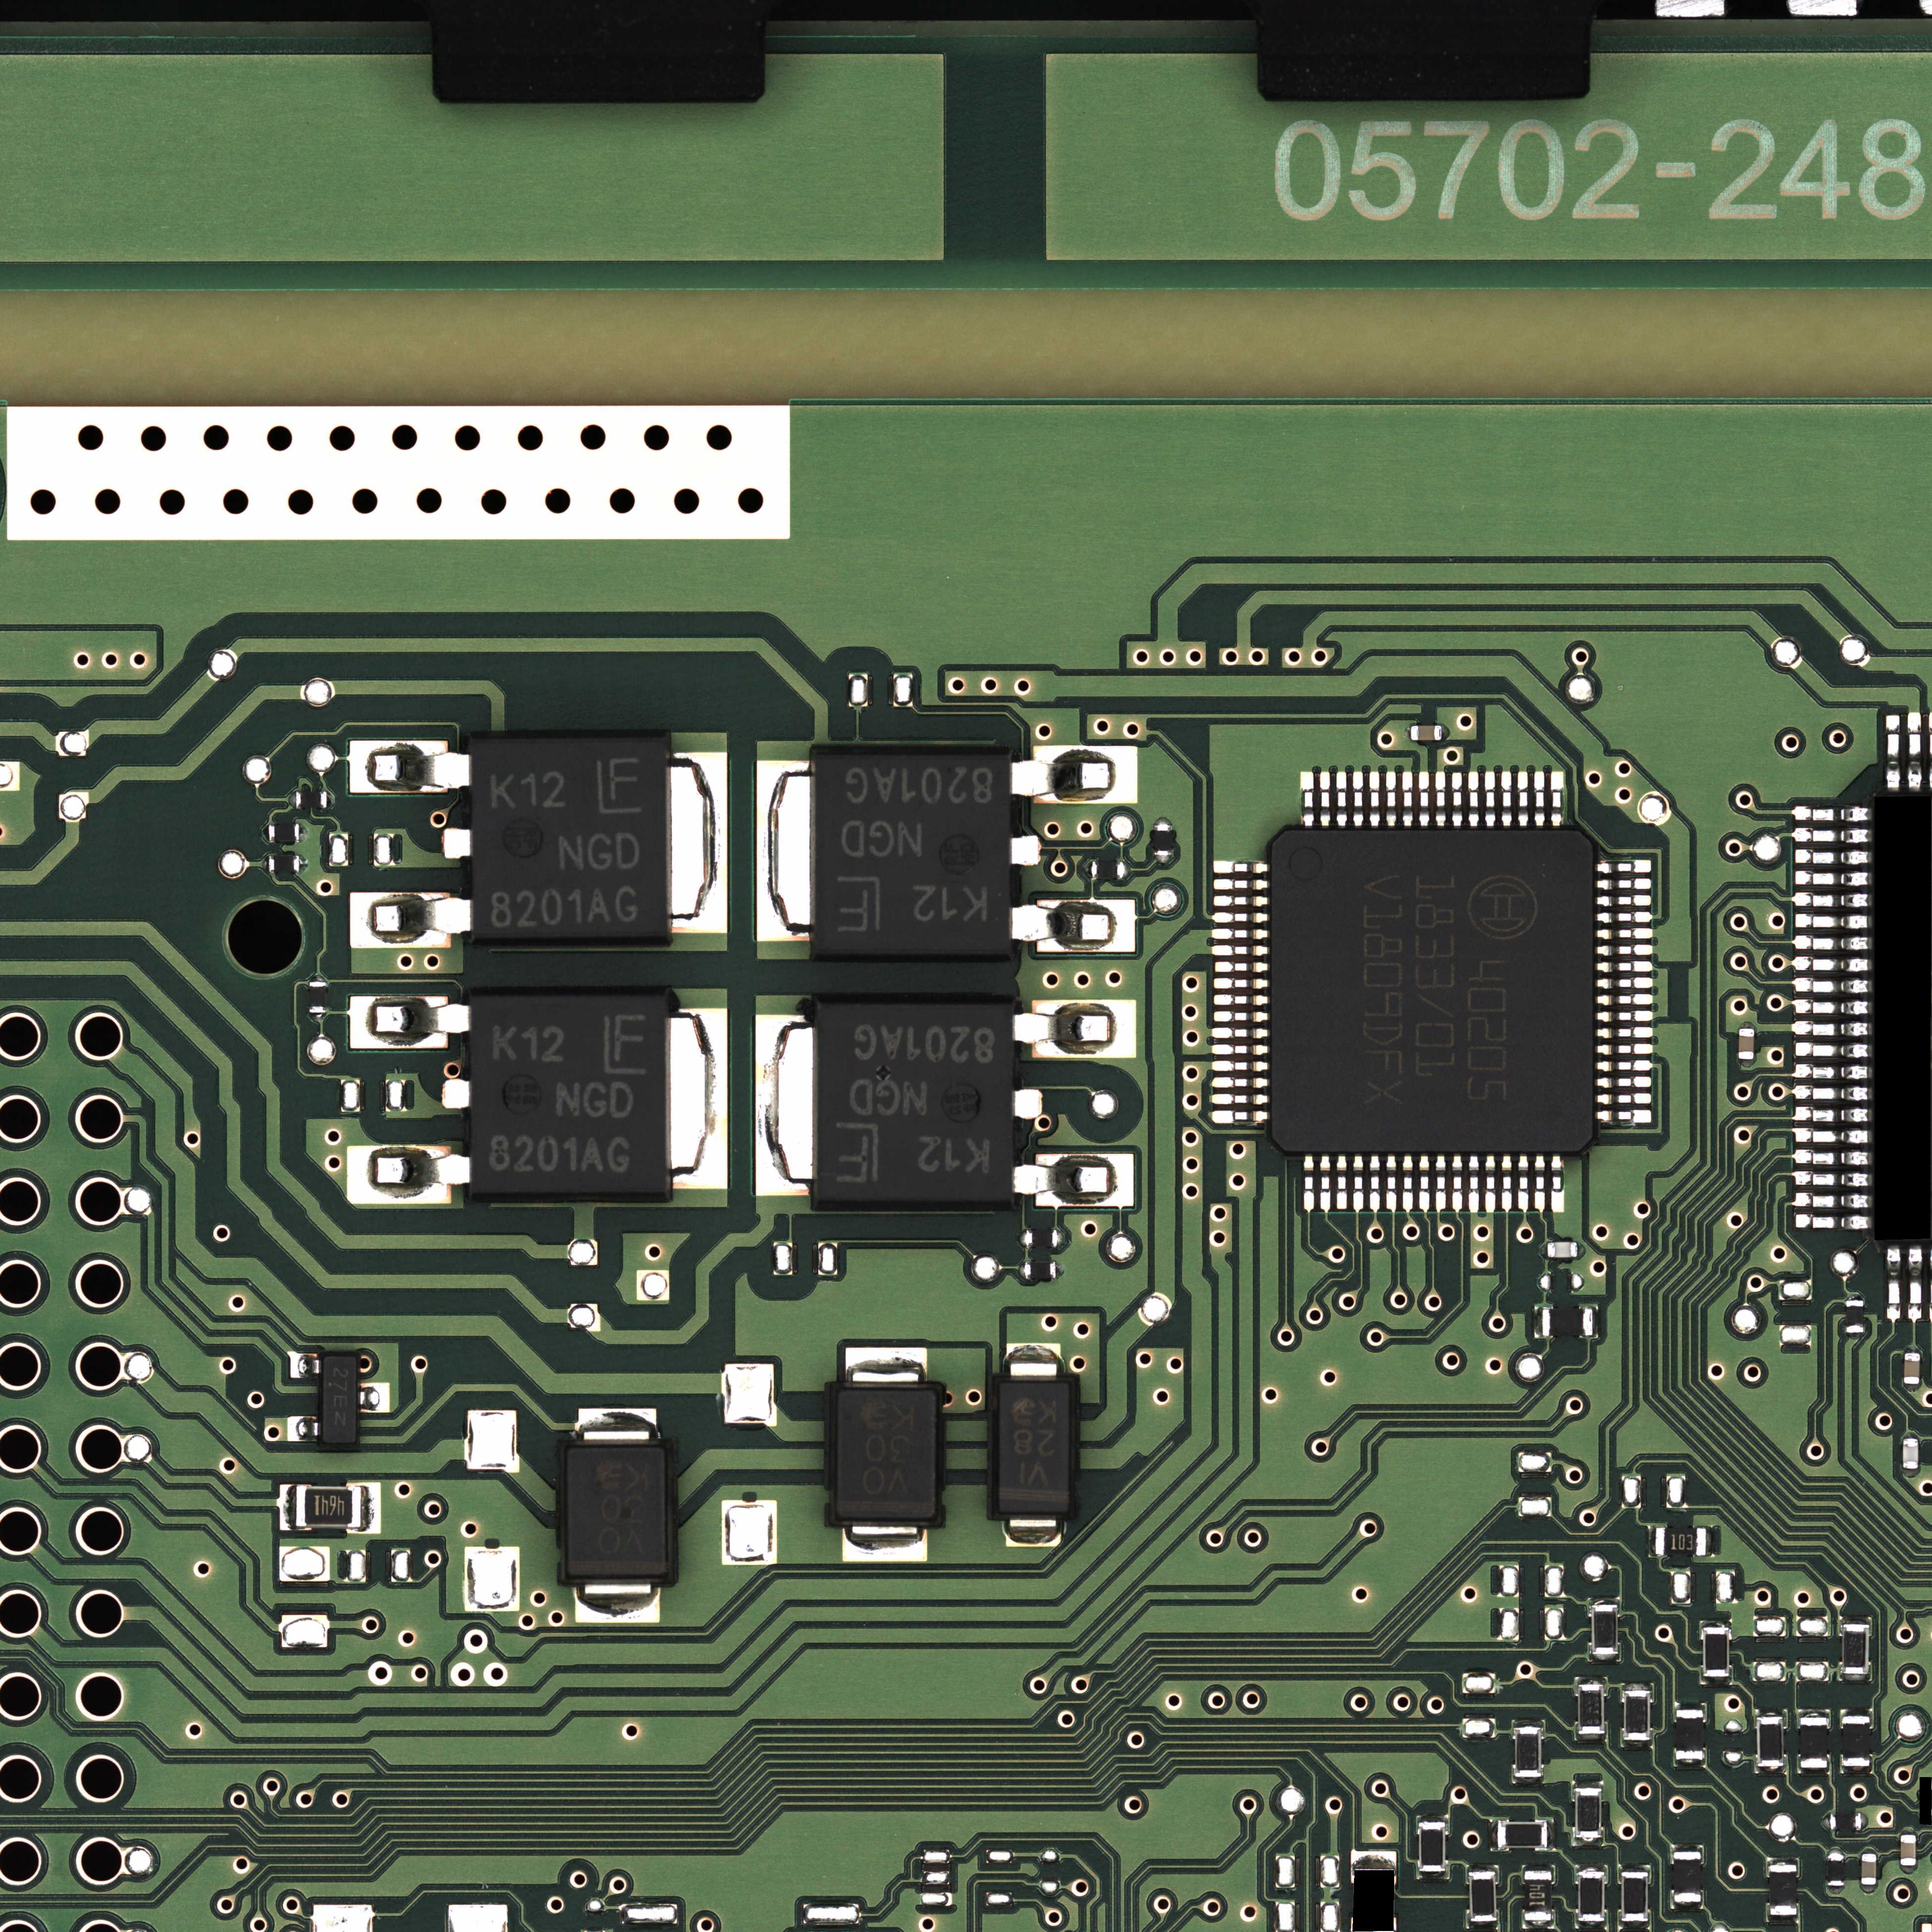Package: (1271, 828, 1595, 1155), (815, 752, 1011, 956), (472, 738, 667, 940), (471, 994, 666, 1196), (817, 1007, 1011, 1204), (836, 1390, 936, 1520), (567, 1448, 668, 1576), (999, 1382, 1069, 1514), (321, 1353, 358, 1444), (295, 1486, 362, 1527), (1800, 1717, 1828, 1768), (1542, 1308, 1593, 1336), (1676, 1710, 1704, 1759), (1673, 1852, 1701, 1902), (1655, 1528, 1706, 1555), (1770, 1865, 1797, 1915), (1843, 1716, 1870, 1766), (1525, 1871, 1551, 1920), (1469, 1872, 1496, 1922), (1419, 1822, 1445, 1872), (1703, 1627, 1730, 1677), (1842, 1625, 1869, 1674), (1579, 1871, 1604, 1922), (1497, 1822, 1547, 1848), (1622, 1872, 1647, 1922), (1576, 1788, 1601, 1837), (1592, 1605, 1617, 1654), (1625, 1690, 1649, 1740), (1516, 1727, 1541, 1777), (1578, 1685, 1603, 1734), (1758, 1717, 1783, 1766), (1846, 1301, 1865, 1333), (1026, 1230, 1058, 1248), (1091, 862, 1122, 879), (1025, 1261, 1056, 1279), (269, 824, 299, 842), (296, 791, 327, 808), (1155, 825, 1172, 856), (269, 855, 299, 872), (1830, 1814, 1861, 1830), (1828, 1855, 1844, 1886), (1904, 1353, 1920, 1384), (1739, 1029, 1754, 1059), (1901, 1835, 1916, 1866), (1903, 1439, 1919, 1468), (1547, 1242, 1577, 1257), (1862, 1854, 1876, 1884), (1411, 725, 1442, 740)
Solder: (756, 1014, 817, 1196), (667, 753, 727, 933), (667, 1008, 727, 1189), (757, 759, 814, 942), (1011, 744, 1138, 804), (1013, 999, 1136, 1059), (346, 1145, 469, 1205), (1012, 899, 1137, 954), (350, 892, 470, 948), (1014, 1154, 1133, 1208), (350, 740, 469, 793), (350, 997, 468, 1049), (576, 1577, 660, 1623), (842, 1520, 927, 1561), (846, 1347, 926, 1390), (576, 1408, 657, 1448), (1007, 1343, 1061, 1382), (1006, 1515, 1061, 1547), (1796, 1213, 1871, 1230), (1796, 1171, 1871, 1187), (1795, 1063, 1871, 1080), (1795, 1106, 1871, 1122), (1795, 956, 1870, 972), (1795, 998, 1870, 1014), (1795, 1042, 1871, 1058), (1795, 827, 1870, 843), (1795, 870, 1871, 887), (1795, 935, 1871, 951), (1795, 892, 1871, 909), (1796, 1193, 1871, 1208), (1796, 1150, 1871, 1166), (1795, 1085, 1871, 1101), (1795, 1127, 1871, 1143), (1795, 977, 1870, 993), (1795, 1019, 1870, 1035), (1795, 848, 1871, 864), (1795, 806, 1871, 821), (1795, 914, 1871, 929), (1907, 712, 1922, 789), (1885, 715, 1900, 789), (1886, 1245, 1901, 1320), (362, 1484, 381, 1533), (1909, 1246, 1922, 1320), (1011, 835, 1041, 866), (359, 1383, 390, 1412), (1012, 1089, 1042, 1119), (1350, 1850, 1397, 1869), (444, 828, 471, 859), (442, 1079, 470, 1109), (1551, 1155, 1565, 1212), (1211, 1110, 1269, 1124), (288, 1416, 319, 1441), (1595, 860, 1651, 874), (279, 1485, 295, 1531), (1550, 771, 1564, 827), (1301, 771, 1314, 828), (290, 1354, 321, 1378), (1212, 861, 1269, 873), (1596, 1110, 1652, 1123), (1211, 928, 1269, 940), (1211, 1027, 1269, 1039), (1596, 994, 1654, 1006), (1211, 1077, 1269, 1089), (1213, 977, 1269, 990), (1596, 977, 1653, 989), (1596, 928, 1653, 940), (1596, 1027, 1654, 1039), (1211, 1044, 1269, 1056), (1596, 912, 1653, 923), (1211, 912, 1268, 923), (1212, 945, 1269, 957), (1595, 878, 1651, 890), (1213, 994, 1269, 1006), (1596, 1076, 1652, 1088), (1213, 1011, 1269, 1022), (1596, 1011, 1654, 1022), (1211, 1094, 1269, 1105), (1213, 895, 1268, 907), (1211, 1061, 1269, 1072), (1596, 961, 1653, 972), (1596, 1044, 1654, 1055), (1596, 1060, 1653, 1071), (1596, 945, 1653, 956), (1319, 771, 1331, 828), (1214, 961, 1269, 973), (1468, 771, 1479, 828), (1369, 771, 1380, 828), (1517, 771, 1529, 828), (1418, 771, 1430, 828), (1352, 771, 1364, 828), (1595, 895, 1651, 907), (1451, 772, 1463, 828), (1452, 1155, 1463, 1213), (1596, 1093, 1652, 1105), (1213, 879, 1268, 890), (1485, 1155, 1496, 1213), (1468, 1155, 1479, 1213), (1419, 1155, 1430, 1212), (1518, 1155, 1529, 1212), (1501, 771, 1512, 828), (1402, 1155, 1413, 1212), (1369, 1155, 1380, 1212), (1386, 771, 1397, 828), (1534, 771, 1545, 827), (1402, 771, 1413, 828), (1336, 771, 1347, 828), (1485, 771, 1496, 828), (1435, 772, 1446, 828), (1535, 1155, 1545, 1213), (1436, 1155, 1446, 1212), (1501, 1155, 1512, 1212), (1386, 1155, 1397, 1212), (1320, 1155, 1331, 1212), (1353, 1155, 1364, 1211), (1304, 1156, 1314, 1211), (1337, 1156, 1347, 1210), (1621, 1740, 1654, 1748), (1706, 1527, 1716, 1556), (1534, 1306, 1542, 1338), (1700, 1677, 1732, 1685), (1767, 1915, 1798, 1923), (1799, 1709, 1830, 1717), (1618, 1922, 1650, 1930), (1523, 1921, 1553, 1929), (1840, 1616, 1870, 1624), (1573, 1837, 1603, 1846), (1839, 1674, 1871, 1682), (1513, 1720, 1544, 1728), (1756, 1708, 1786, 1717), (1841, 1708, 1872, 1716), (1490, 1820, 1497, 1850), (1622, 1682, 1652, 1690), (1647, 1526, 1655, 1557), (1417, 1872, 1448, 1880), (1590, 1654, 1619, 1662), (1618, 1864, 1650, 1872), (1767, 1857, 1799, 1864), (1841, 1767, 1872, 1774), (1576, 1922, 1607, 1929), (1672, 1844, 1702, 1852), (1799, 1768, 1830, 1776), (1589, 1597, 1619, 1605), (1576, 1677, 1606, 1685), (1576, 1734, 1607, 1741), (1675, 1759, 1705, 1767), (1756, 1766, 1787, 1774), (1673, 1902, 1702, 1909), (1523, 1864, 1554, 1871), (1676, 1702, 1704, 1710), (1572, 1781, 1603, 1787), (1593, 1306, 1600, 1337), (1467, 1865, 1498, 1872), (1417, 1815, 1448, 1822), (1548, 1820, 1555, 1850), (1700, 1621, 1732, 1627), (1467, 1922, 1498, 1928), (1513, 1777, 1543, 1784), (1576, 1865, 1607, 1871), (300, 824, 308, 842), (1846, 1293, 1865, 1301), (1155, 856, 1174, 863), (1058, 1230, 1065, 1248), (1154, 819, 1172, 825), (1861, 1884, 1877, 1892), (1739, 1059, 1755, 1066), (1739, 1021, 1755, 1028), (327, 791, 334, 809), (1057, 1261, 1063, 1279), (1442, 725, 1449, 740), (300, 856, 307, 872), (262, 825, 269, 842), (1904, 1384, 1921, 1391), (1827, 1886, 1844, 1893), (1828, 1847, 1844, 1855), (1900, 1866, 1917, 1873), (1903, 1469, 1920, 1476), (1862, 1813, 1869, 1830), (1846, 1333, 1865, 1339), (1577, 1242, 1584, 1257), (1905, 1347, 1920, 1353), (1824, 1814, 1830, 1831), (1019, 1262, 1025, 1279), (1085, 862, 1092, 878), (1123, 863, 1129, 878), (290, 791, 296, 808), (1901, 1828, 1916, 1835), (1019, 1230, 1025, 1247), (1862, 1847, 1877, 1854), (1405, 725, 1411, 740), (1903, 1433, 1919, 1439), (264, 856, 269, 872), (1542, 1243, 1547, 1257)
